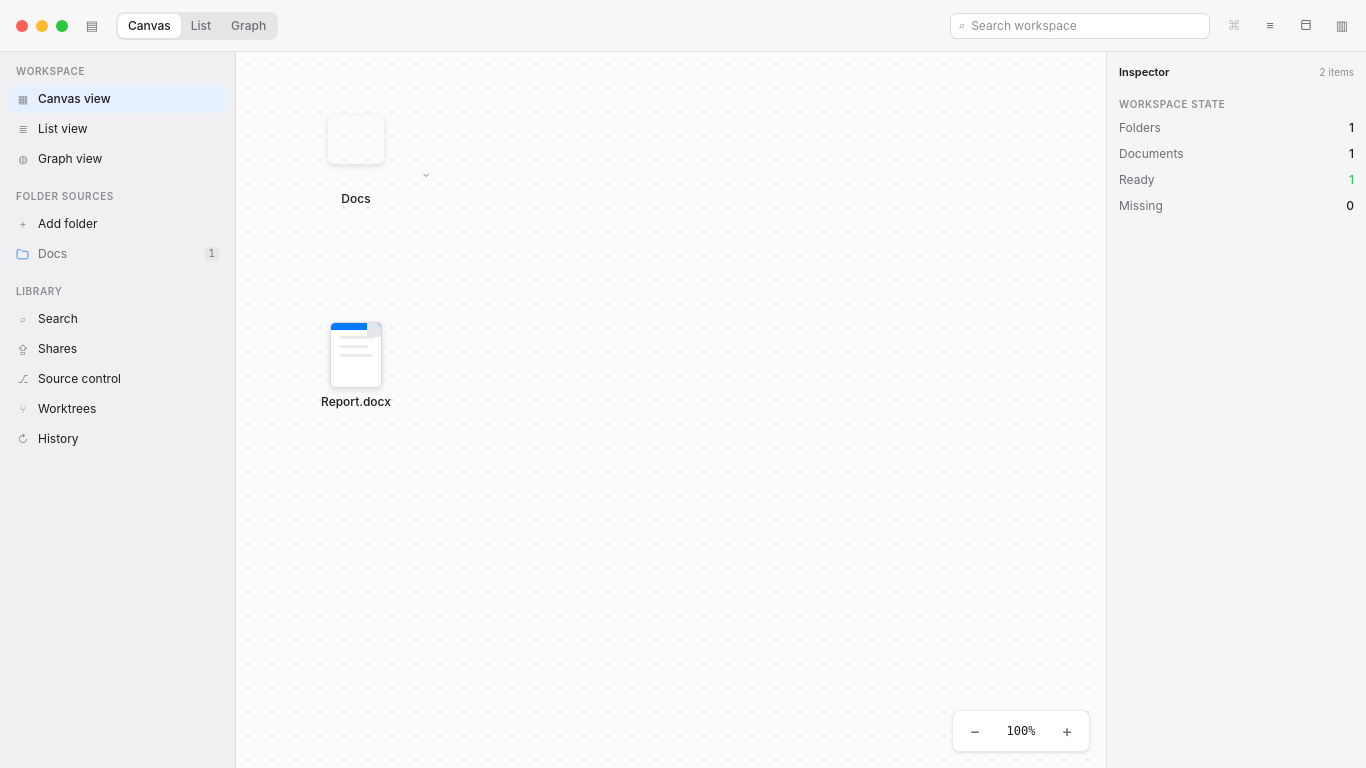
Test: App shell reachability › G8: mounts the PDF export surface and reaches the privileged PDF route
The width and height of the screenshot is (1366, 768).
Step 1. Click the button named "PDF" → point(1306, 26), box [1294,14,1318,38]
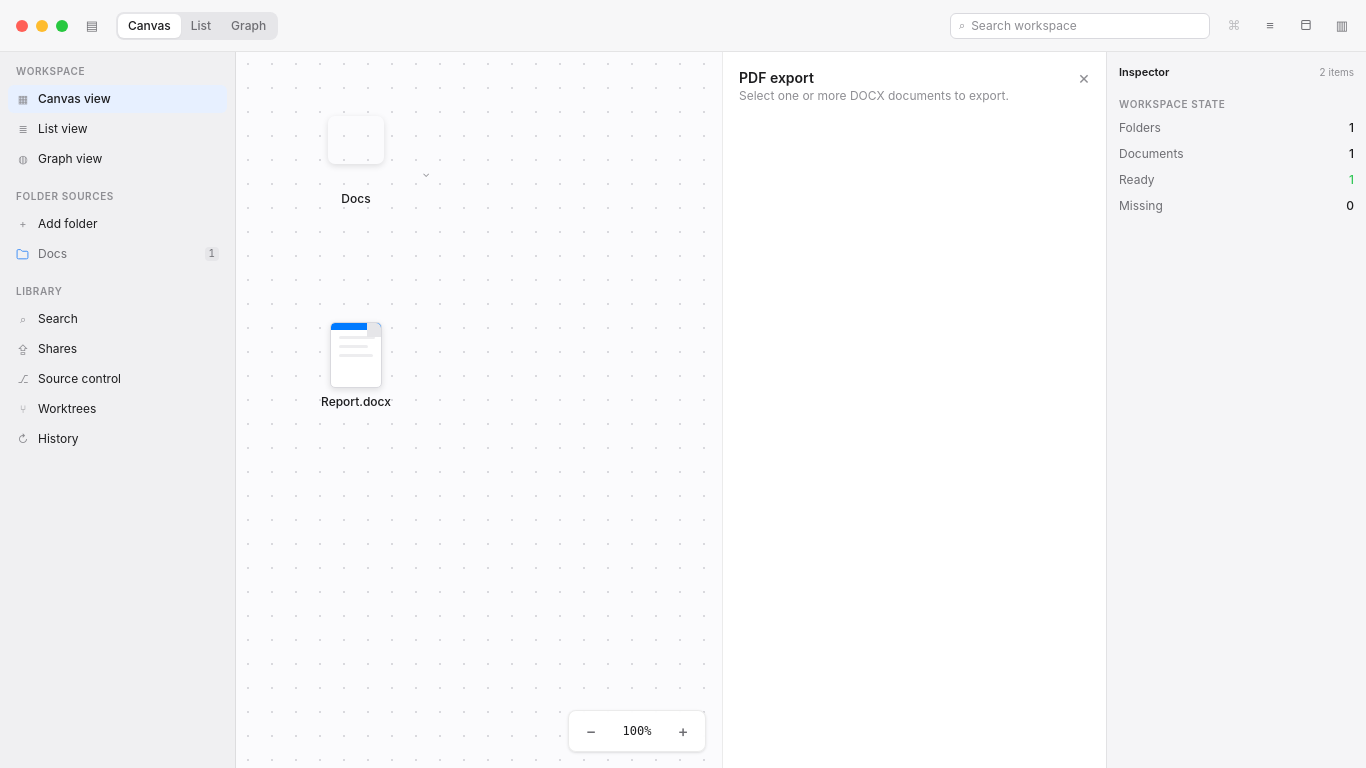
Expected: the element with test id "pdf-export-panel" is shown, [722,52,1106,767]
Step 2. Click the button with aria-label "Document: Report.docx" → point(356, 366), box [321,322,391,409]
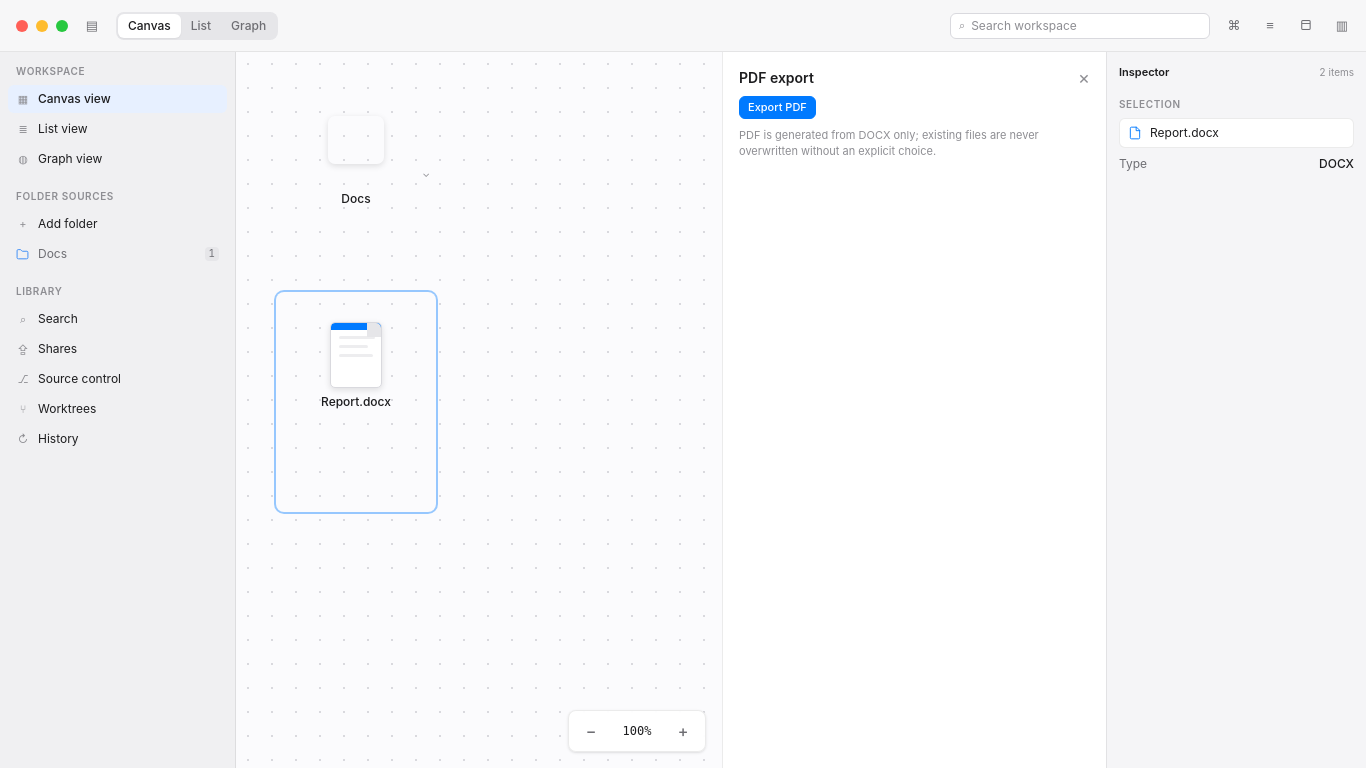
Step 3. Click the button "Export PDF" → point(777, 107), box [739,96,816,118]
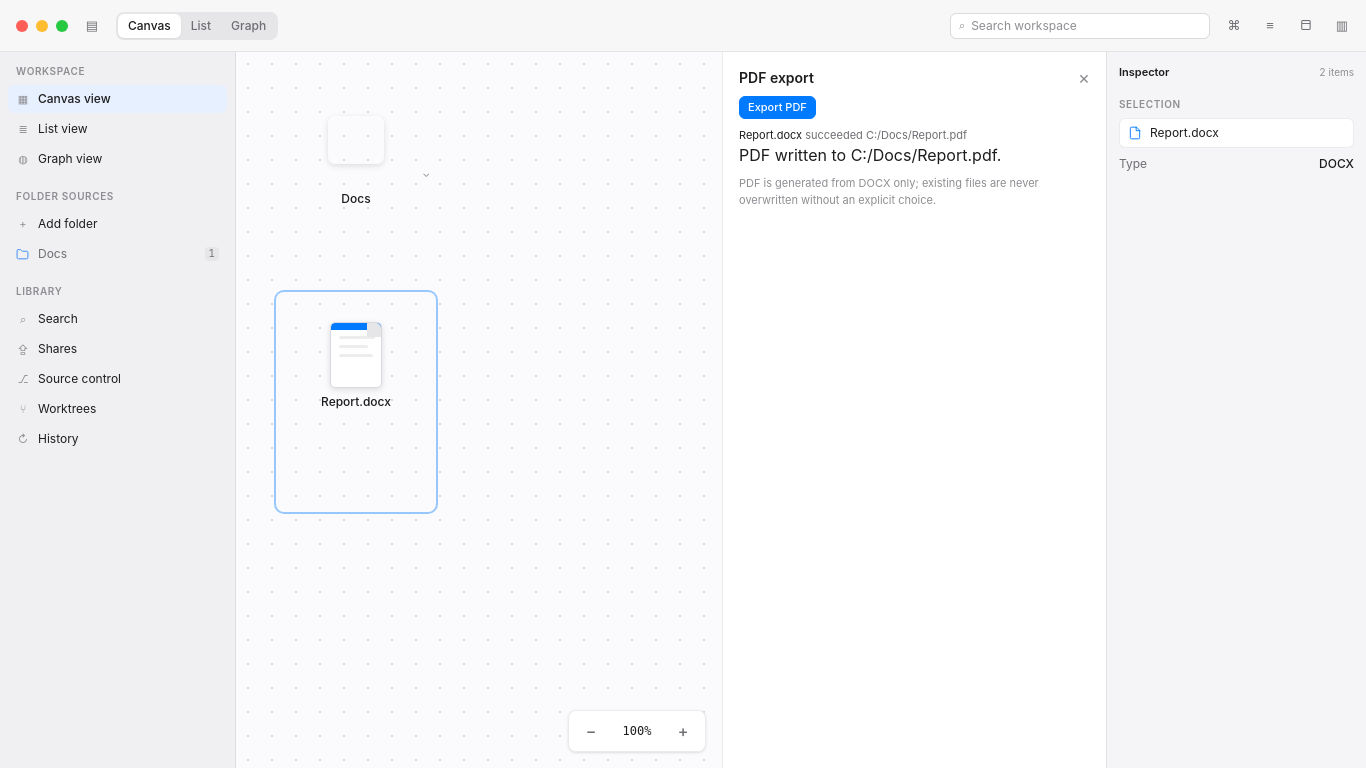
Expected: the text "C:/Docs/Report.pdf" is shown, [863,128,967,142]
